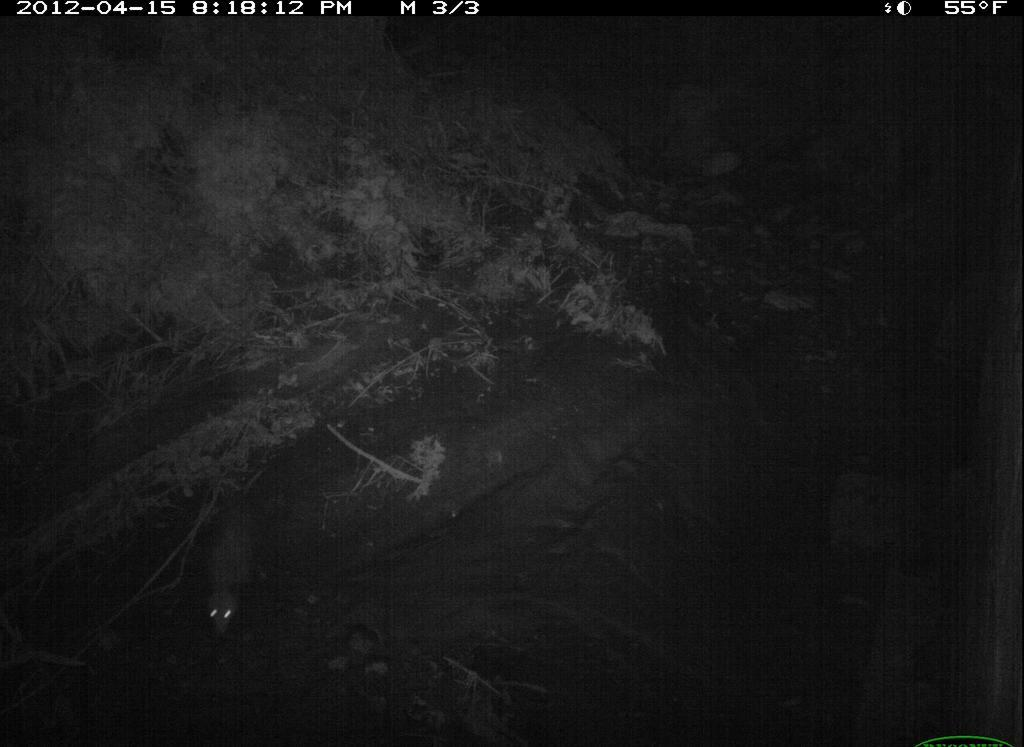opossum: (182, 488, 298, 647)
